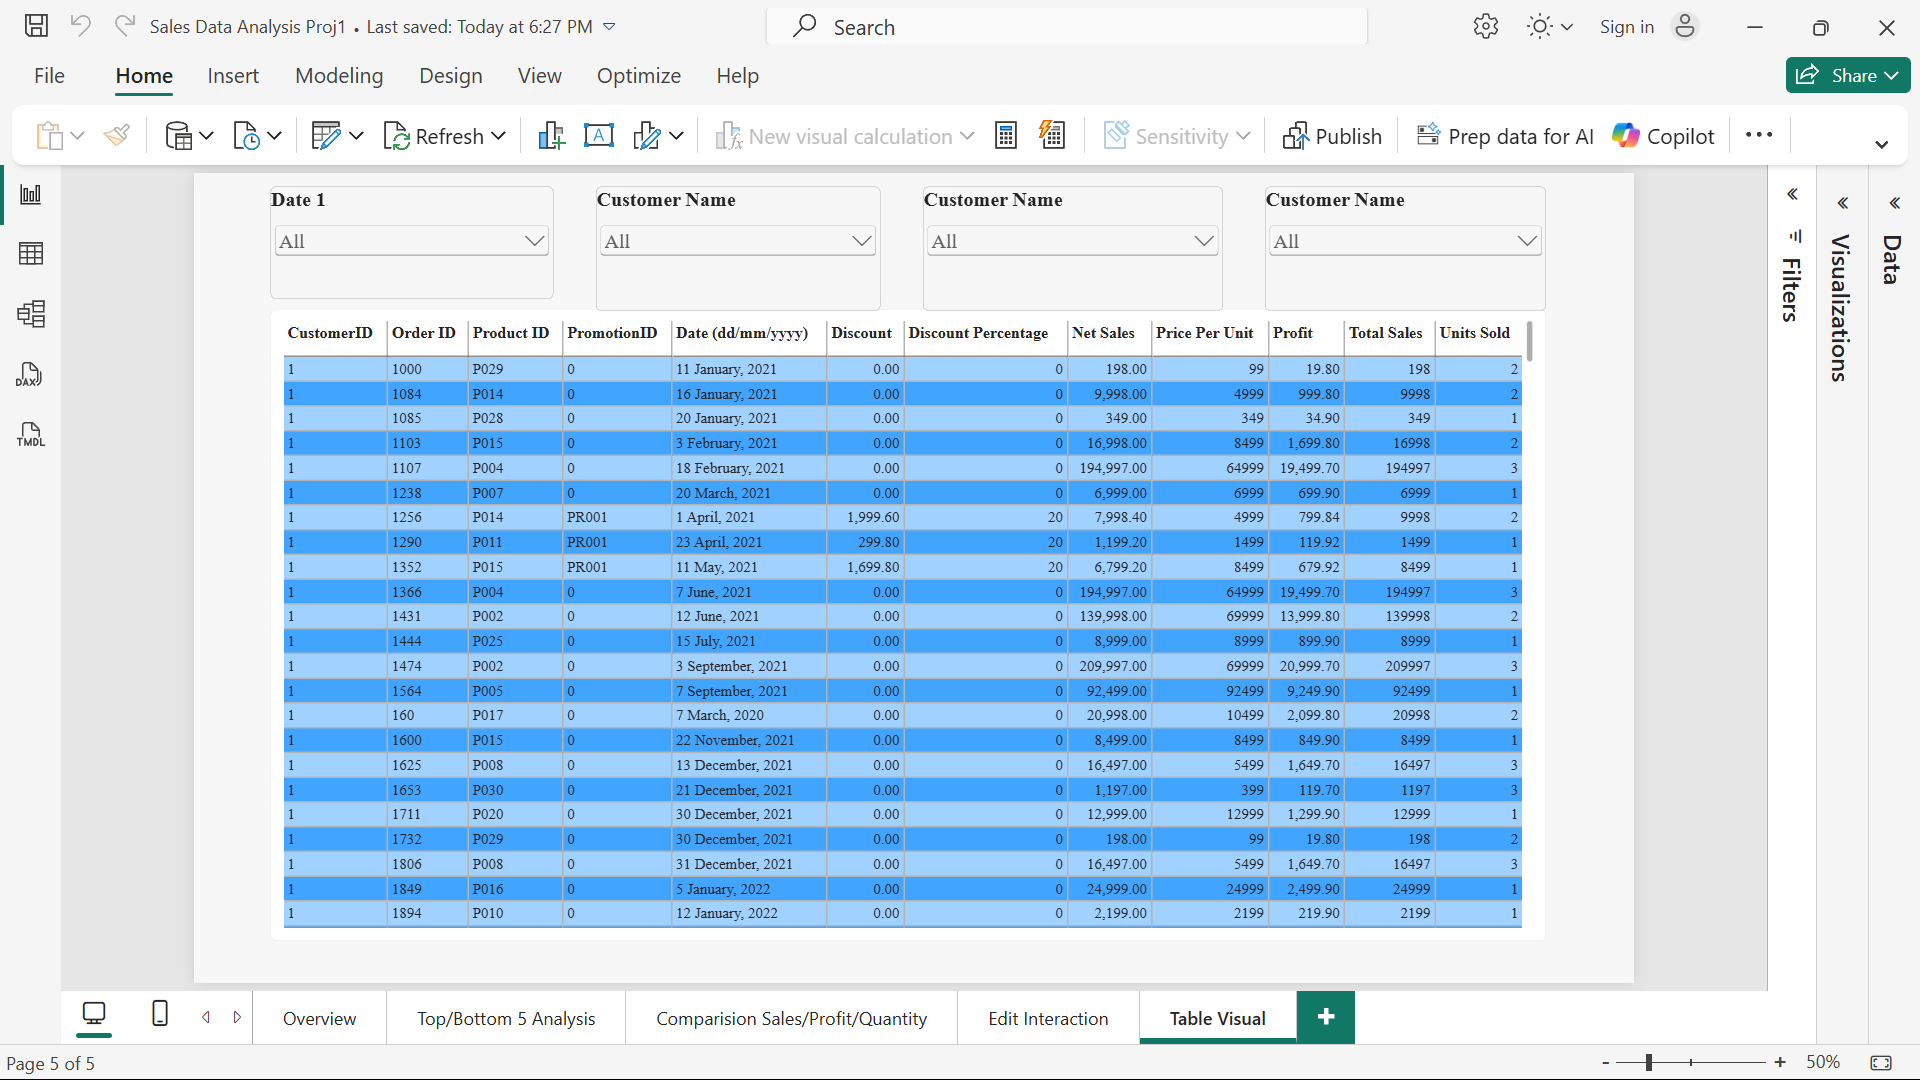

Layout of this report page (visuals, bound fields, positions):
{"tool":"powerbi","page":{"name":"Table Visual","canvas":[1920,1080],"ordinal":4},"visuals":[{"type":"tableEx","fields":{"Values":["Fact Table.CustomerID","Fact Table.Order ID","Fact Table.Product ID","Fact Table.PromotionID","Fact Table.Date (dd/mm/yyyy)","Fact Table.Discount","Fact Table.Discount Percentage","Fact Table.Net Sales","Fact Table.Price Per Unit","Fact Table.Profit","Fact Table.Total Sales","Fact Table.Units Sold"]},"box":[102,181.4,1700.8,841.9],"z":0},{"type":"slicer","title":"Date 1","fields":{"Values":["Date Table 1.Date"]},"box":[102.2,18.2,377,149.9],"z":1},{"type":"slicer","title":"Customer Name","fields":{"Values":["Dim Customers.Customer Name"]},"box":[536,18.2,379.3,165.8],"z":2},{"type":"slicer","title":"Customer Name","fields":{"Values":["Dim Product.Product Name"]},"box":[972.1,18.2,399.8,165.8],"z":3},{"type":"slicer","title":"Customer Name","fields":{"Values":["Dim Promotion.Promotion Name"]},"box":[1428.7,18.2,374.8,165.8],"z":4}]}

Visuals, with their boxes on the page's 1920x1080 design canvas (x1, y1, x2, y2). These are canvas units, not pixel positions in the 1920x1080 screenshot, which may show the page scaled, cropped or inside an application window:
tableEx - Fact Table.CustomerID x Fact Table.Order ID: [102,181,1803,1023]
"Date 1" slicer: [102,18,479,168]
"Customer Name" slicer: [536,18,915,184]
"Customer Name" slicer: [972,18,1372,184]
"Customer Name" slicer: [1429,18,1804,184]
